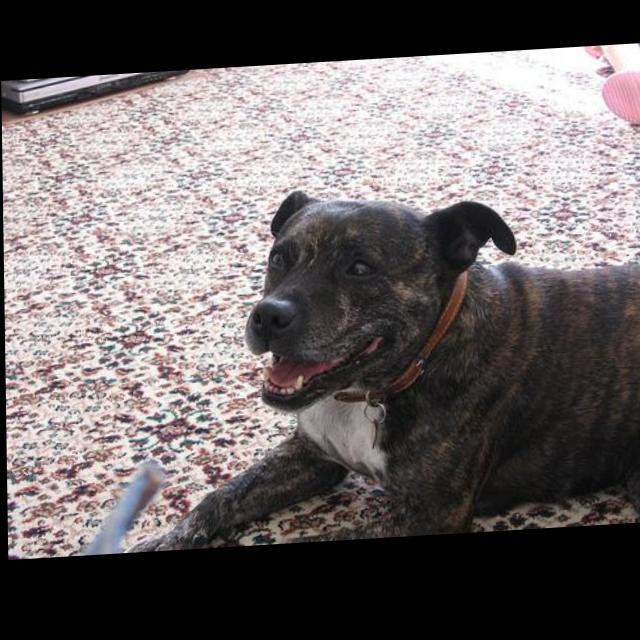staffford: (81, 176, 640, 557)
